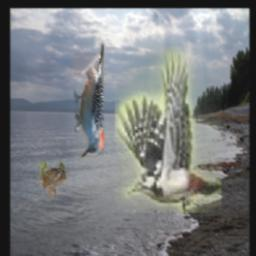Sparrow: (39, 163, 68, 199)
Woodpecker: (115, 47, 221, 214), (74, 43, 104, 161)
